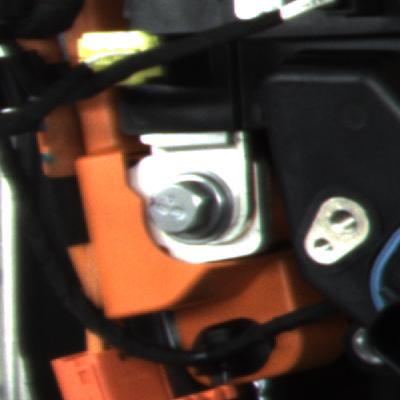nut_b: (132, 170, 249, 253)
